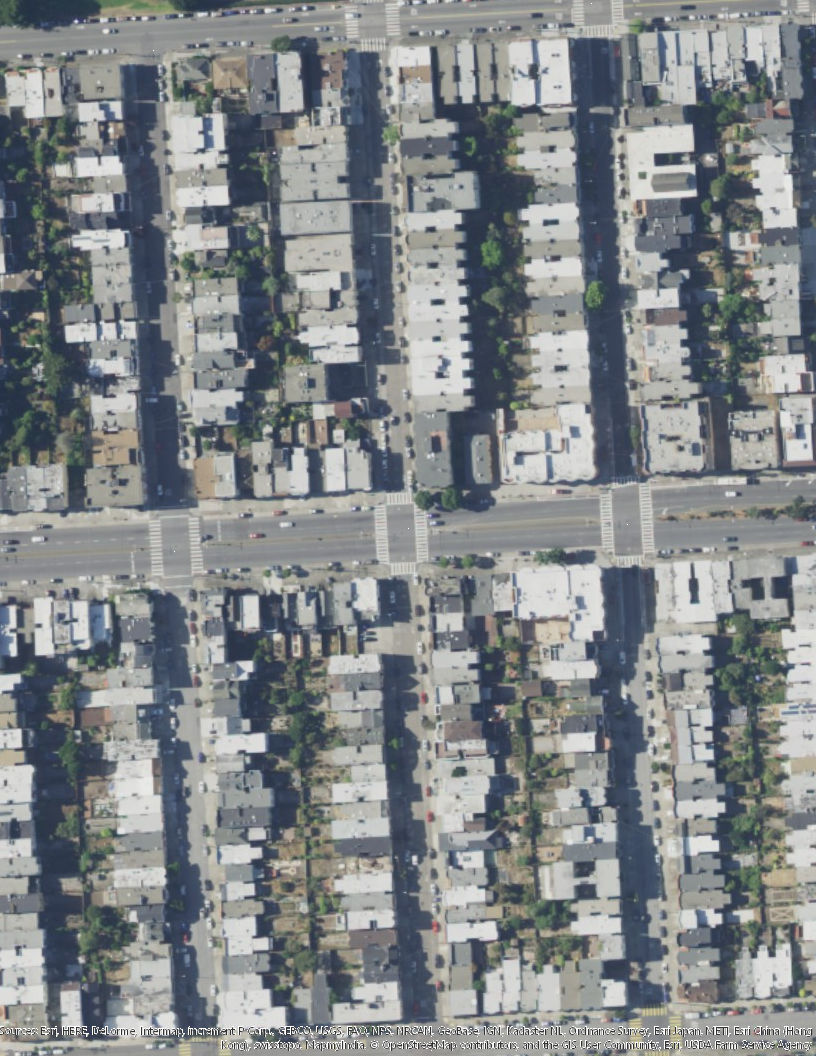zebracross: (599, 489, 617, 550), (185, 515, 204, 572), (147, 520, 166, 577), (638, 485, 654, 552), (373, 505, 391, 564), (414, 504, 428, 562), (384, 3, 403, 37), (343, 2, 361, 37), (583, 23, 617, 38), (617, 553, 647, 568), (570, 1, 587, 27), (670, 1015, 683, 1049), (630, 1018, 642, 1054), (611, 475, 640, 489), (361, 37, 387, 52), (385, 491, 415, 504), (390, 562, 417, 576), (610, 1, 625, 25), (643, 1003, 666, 1016), (178, 1038, 190, 1056)
